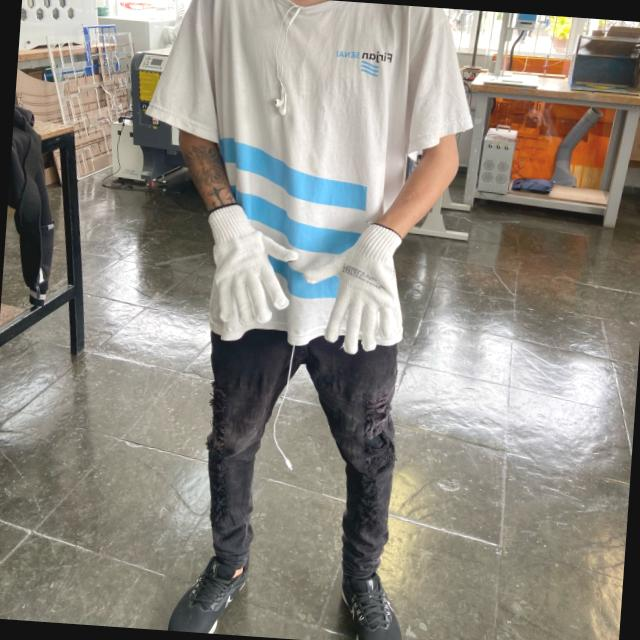LUVA: (298, 213, 407, 358), (202, 200, 301, 334)
SEM BOTA: (156, 544, 253, 632), (336, 566, 403, 640)
